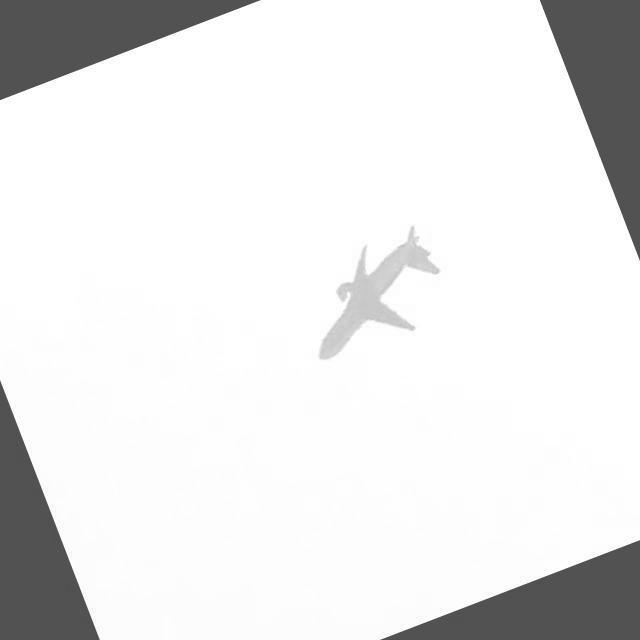aeroplane: (287, 222, 459, 366)
